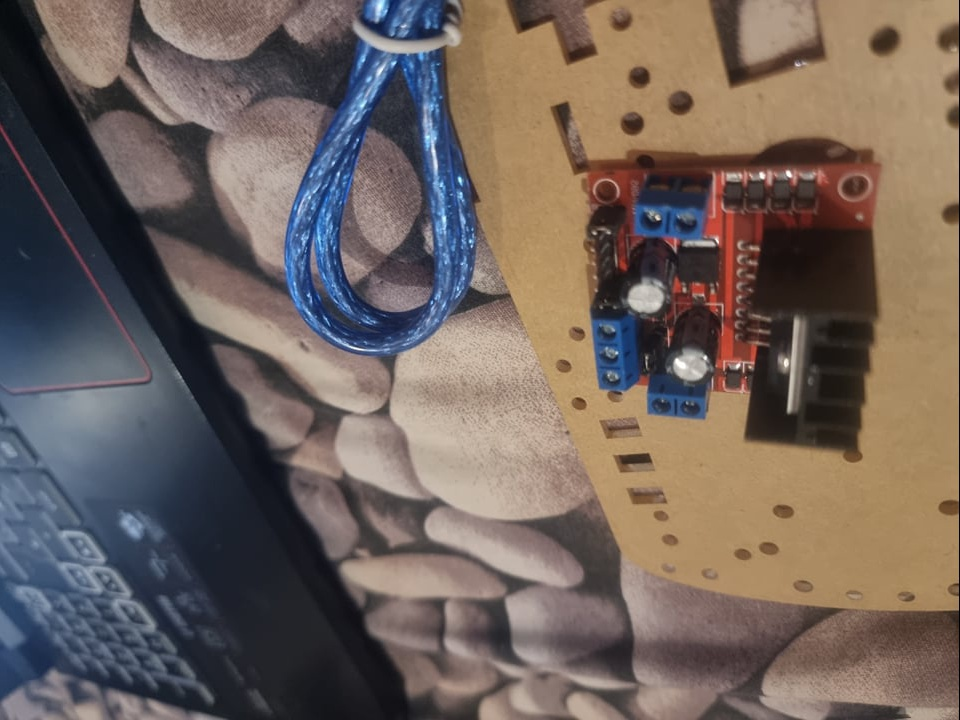MOTOR: (586, 156, 885, 460)
